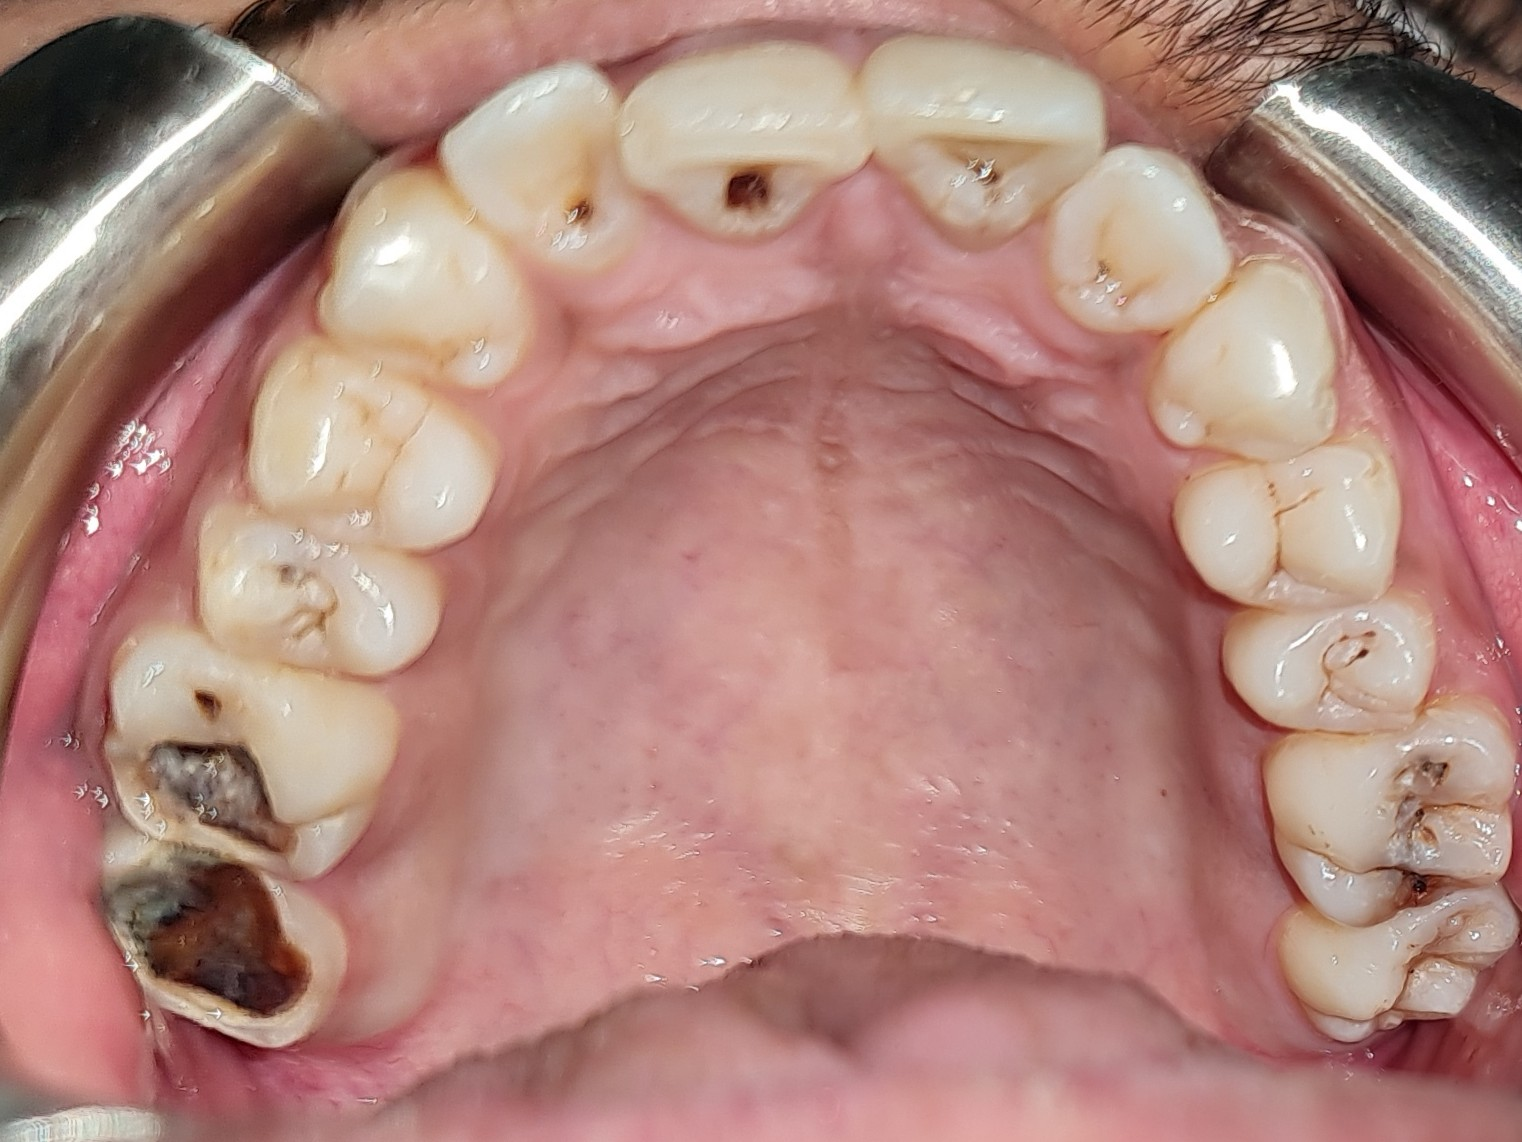D: (99, 625, 402, 878), (86, 824, 353, 1056), (1262, 700, 1515, 925), (622, 34, 864, 250), (866, 29, 1099, 252), (183, 502, 445, 678), (442, 63, 629, 268), (1224, 608, 1435, 733)
